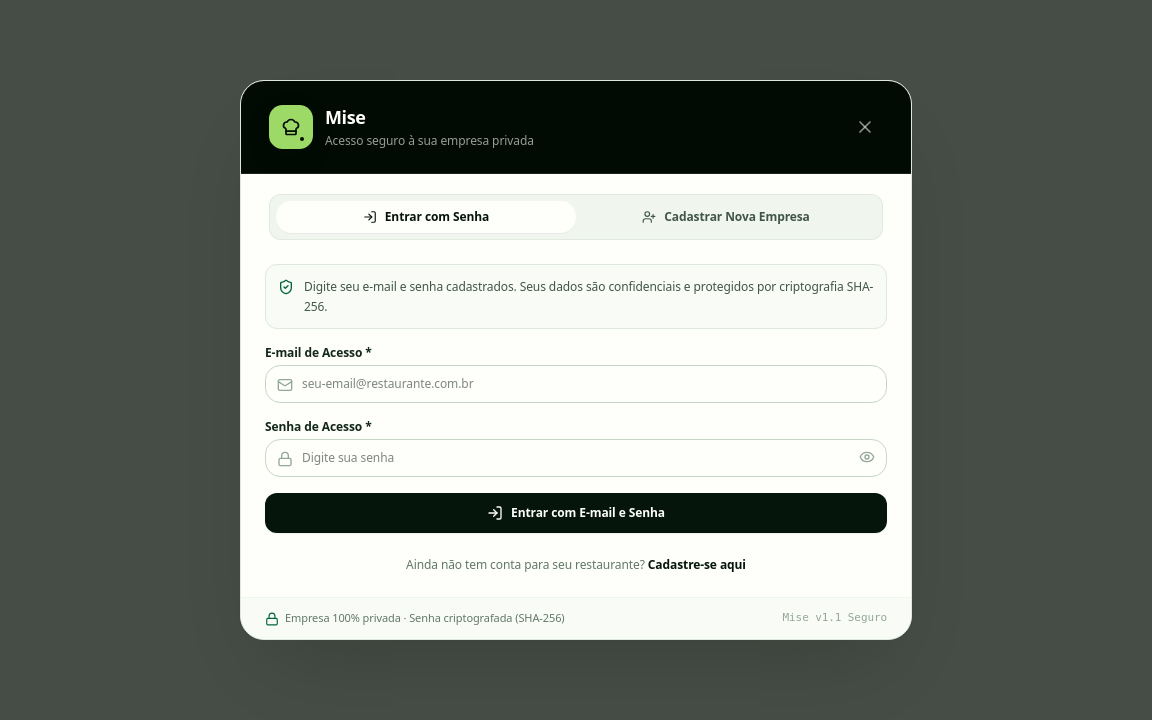
Test: AuthModal › respeita o modo solicitado ao reabrir após alternar entre cadastro e login
This screenshot has width=1152, height=720.
Later steps or results of the test are not shown.
Click the button "Cadastrar Nova Empresa" at (726, 217), box [576, 201, 876, 233]
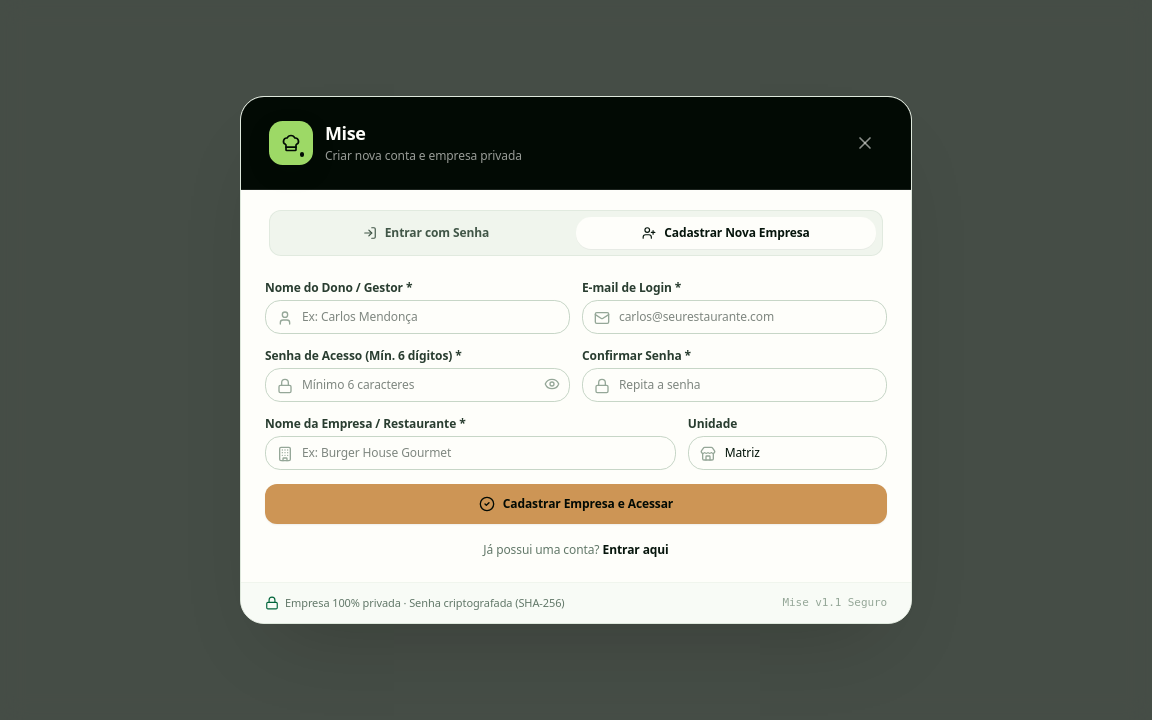
Result: the button "Cadastrar Empresa e Acessar" is shown at [265, 484, 887, 524]
